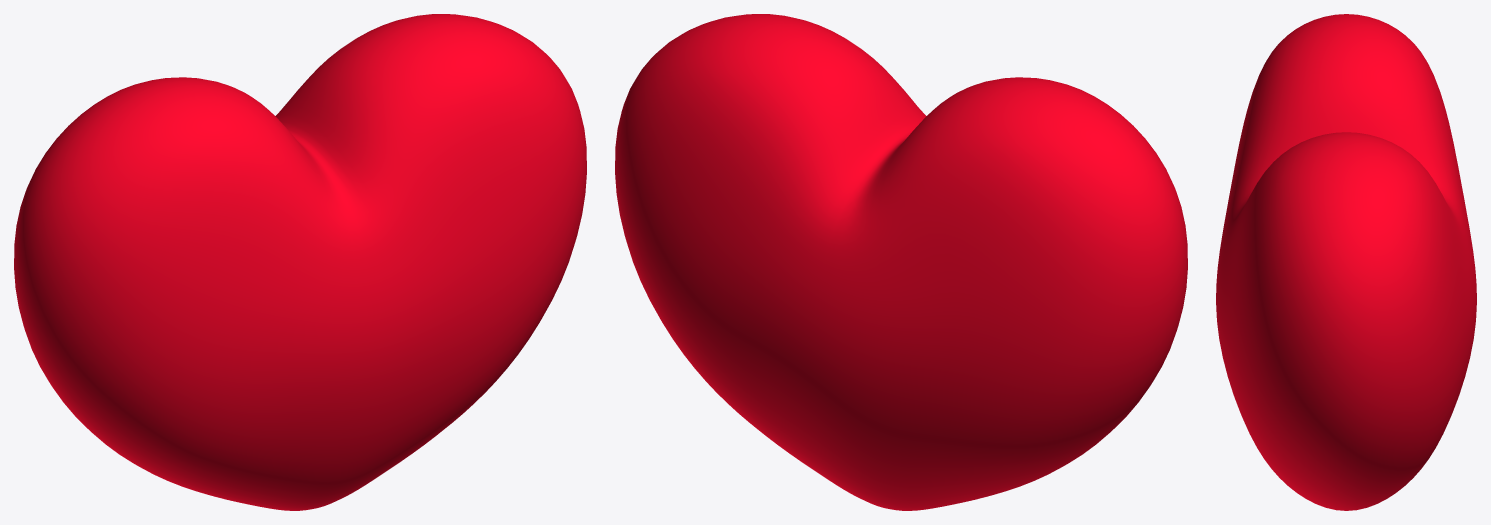
Rendered from heart.glb.
The picture shows the model from 3 angles, left to right: view 1: azimuth 30°, elevation 25°; view 2: azimuth 150°, elevation 25°; view 3: azimuth 270°, elevation 25°; orthographic projection. The views are drawn at different scales.
Parts seen in each view (by area): view 1: Cube.001; view 2: Cube.001; view 3: Cube.001.
Boxes of the visible parts, x1,y1,x2,y2 form: Cube.001: [14, 14, 586, 510]; Cube.001: [615, 14, 1187, 510]; Cube.001: [1216, 14, 1476, 510].
Bounding box in the file's own units: 0.3885 × 0.3019 × 0.1728.
